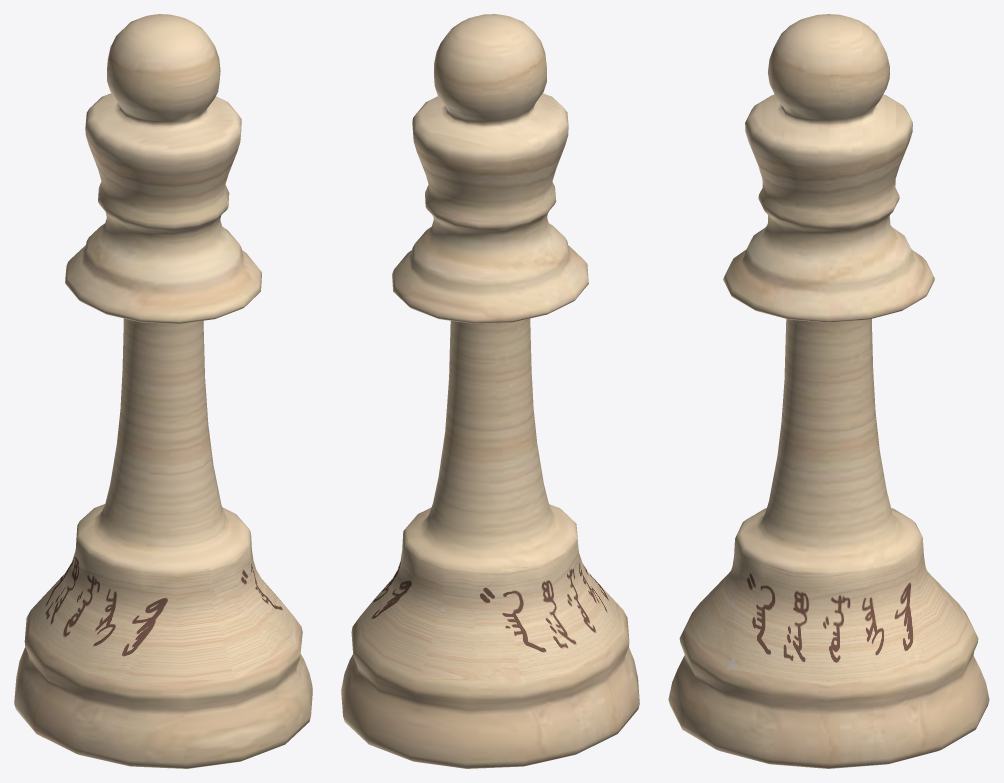
File: Reyna.fbx
3 renders of one model, left to right at view 1: azimuth 30°, elevation 25°; view 2: azimuth 150°, elevation 25°; view 3: azimuth 270°, elevation 25°, orthographic.
Visible parts, largest first — view 1: Reyna; view 2: Reyna; view 3: Reyna.
Part boxes in pixels (x1,y1,x2,y2): Reyna: (14,14,312,768); Reyna: (341,14,639,768); Reyna: (668,14,989,768).
Size of the model in its own units: 41.68 by 106 by 44.88.
Materials: 2 (2 with a texture image).
